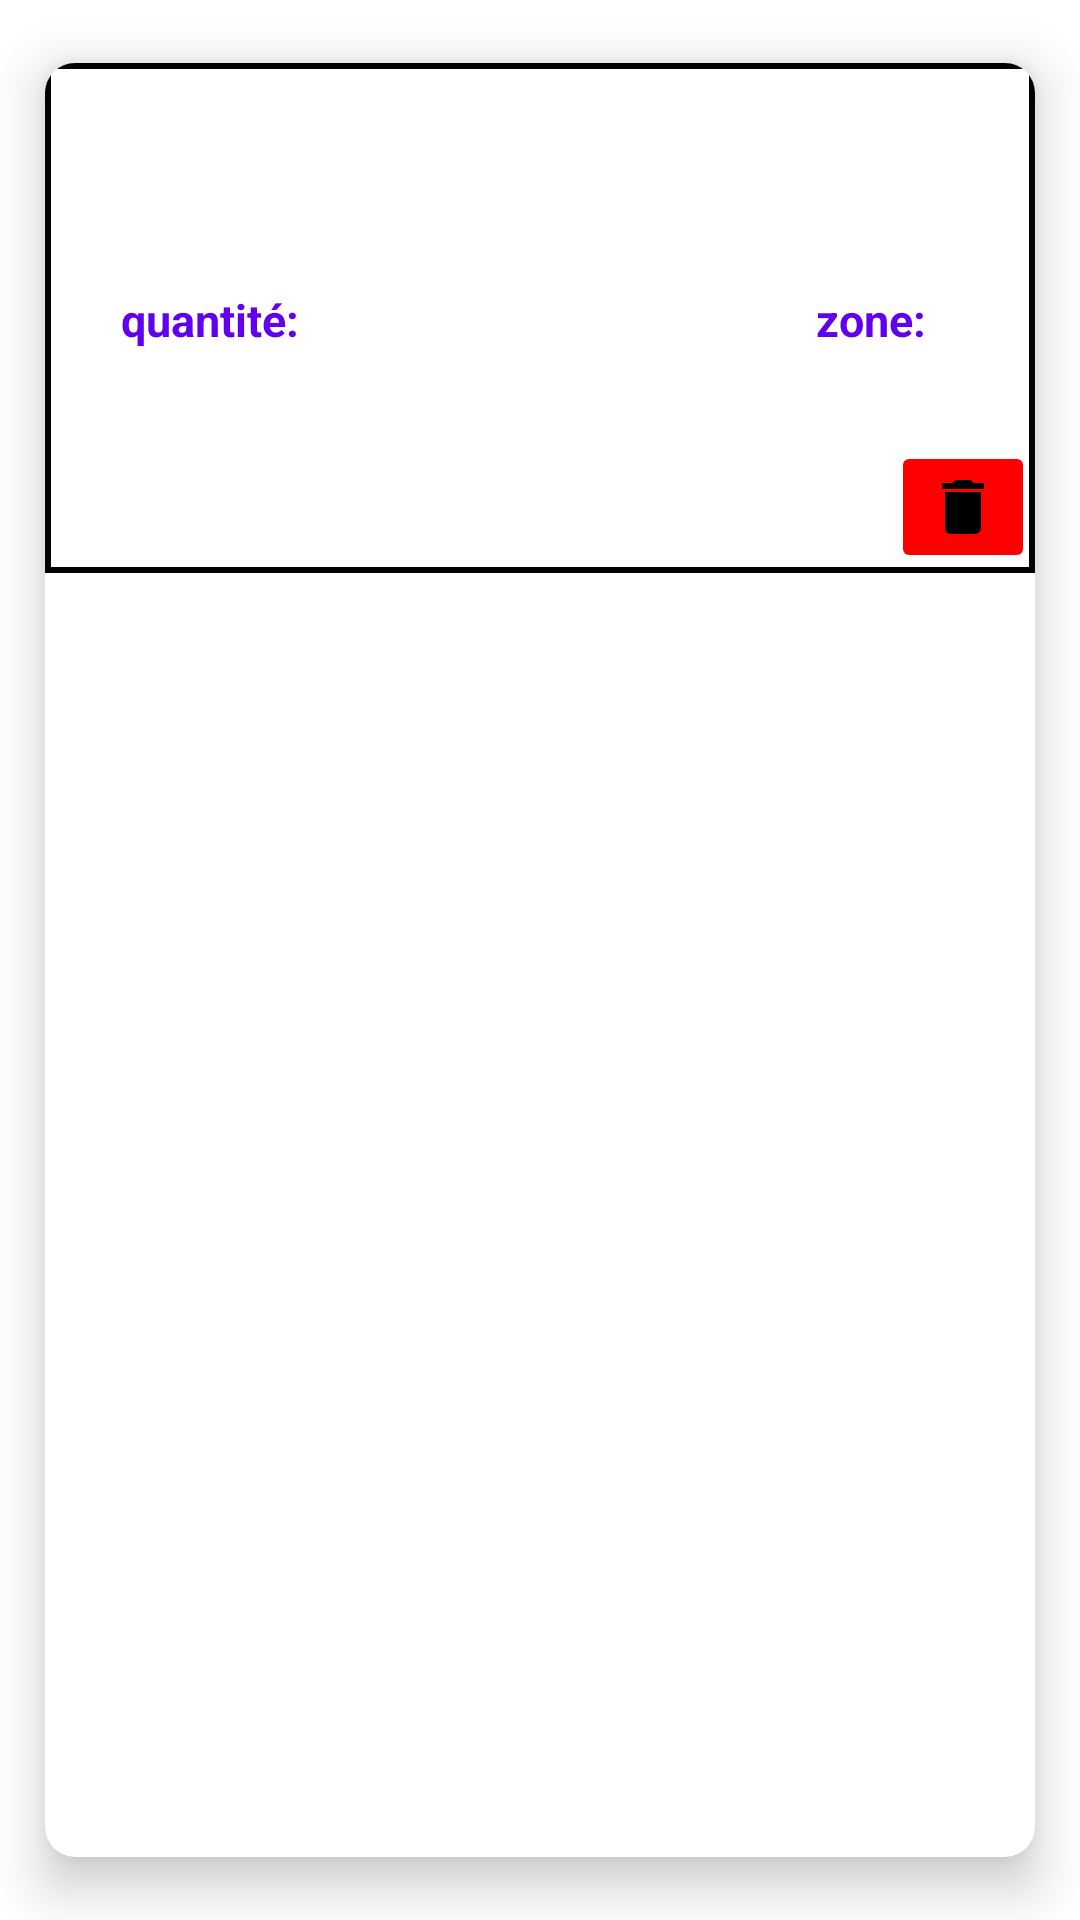

Icon click points for this 1080*1920 phone screenshot, format [x,y]:
Bouton de suppression d'un vin: [963,507]
